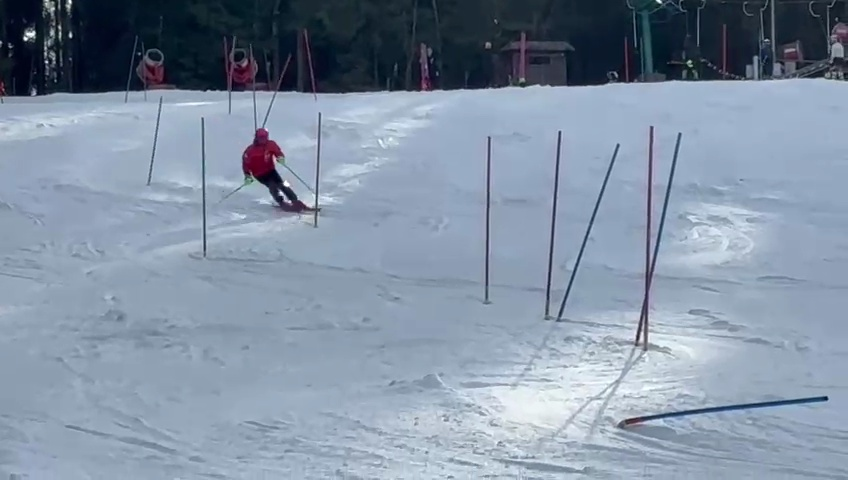gate: (582, 360, 848, 467), (597, 374, 831, 437), (555, 134, 623, 329), (635, 119, 690, 359), (631, 122, 668, 355), (256, 30, 305, 134), (544, 122, 565, 326), (479, 126, 499, 306), (194, 111, 215, 261), (310, 108, 331, 230), (143, 92, 168, 189), (299, 25, 321, 100), (221, 32, 237, 117), (120, 32, 138, 105), (248, 49, 260, 126), (138, 44, 150, 103), (420, 44, 433, 93), (417, 44, 427, 93)
